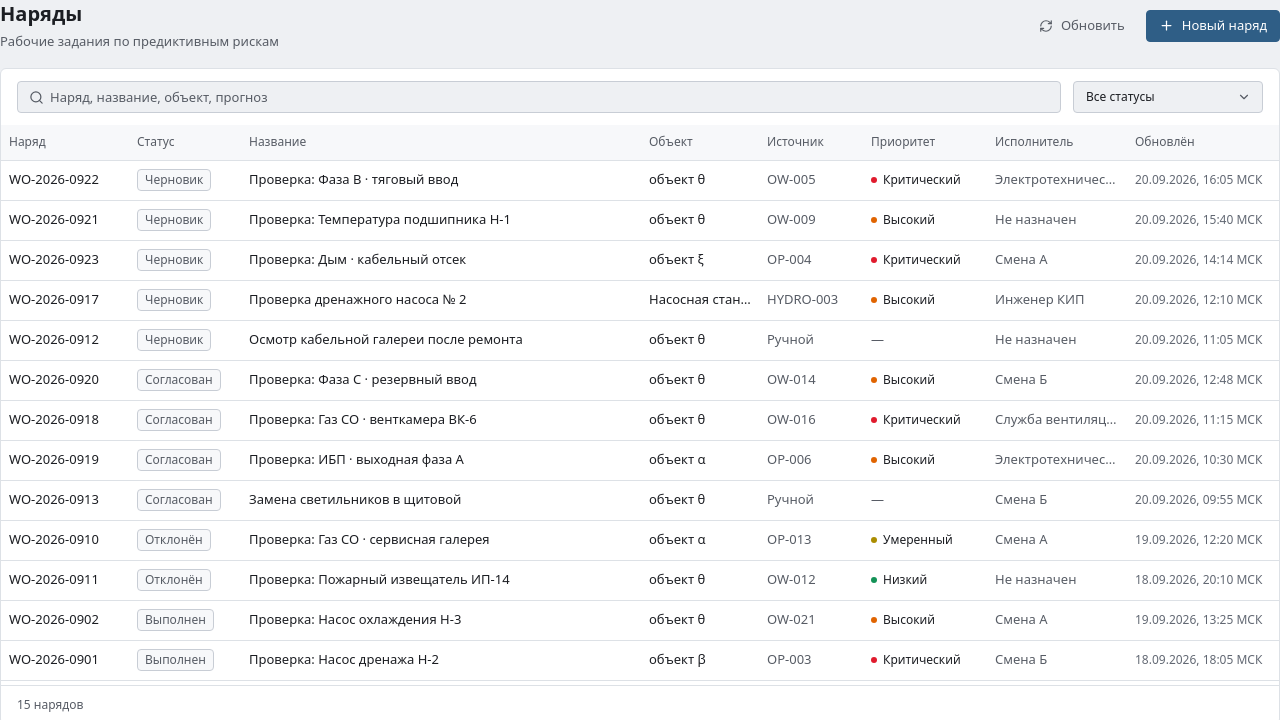
Test case: Tickets registry › searches by prediction id and assignee
Type "HYDRO-003" into the search field at [539, 96], box top-left (17, 80), bottom-right (1061, 112)
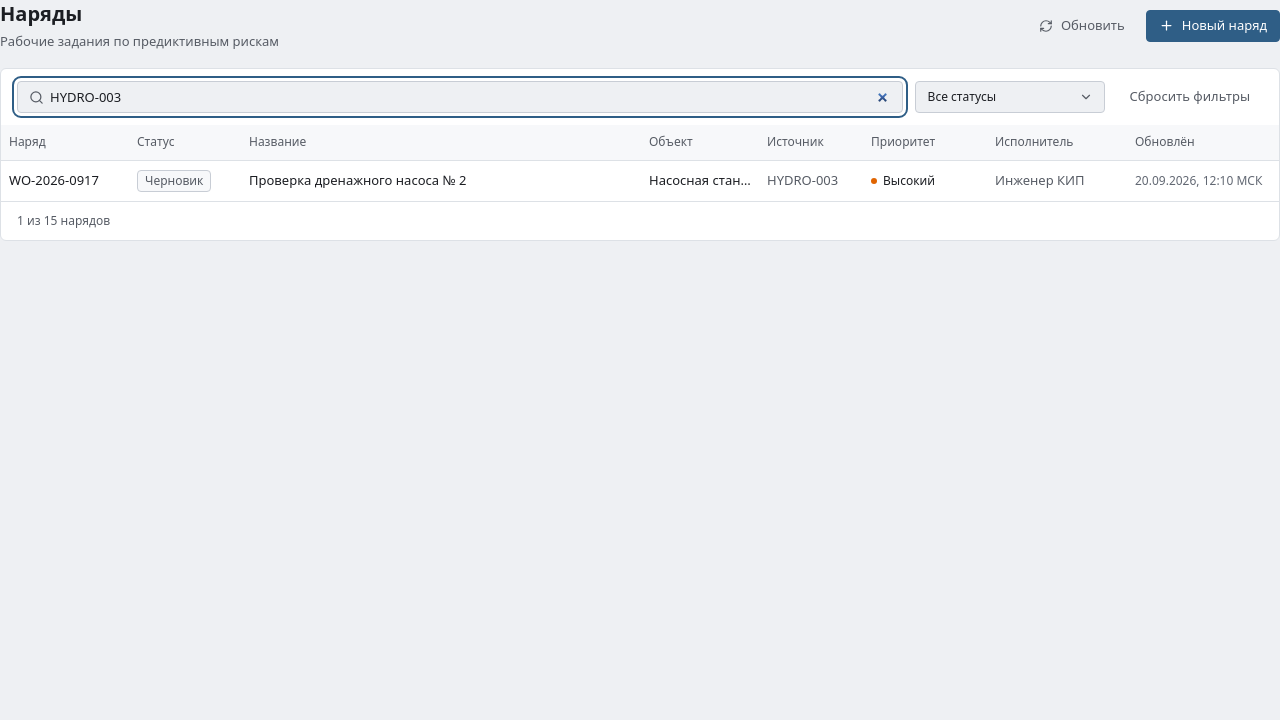
Expected: the text "1 из 15 нарядов" is shown, top-left (1, 200), bottom-right (1279, 240)
Clear the search field at [460, 96], box top-left (17, 80), bottom-right (903, 112)
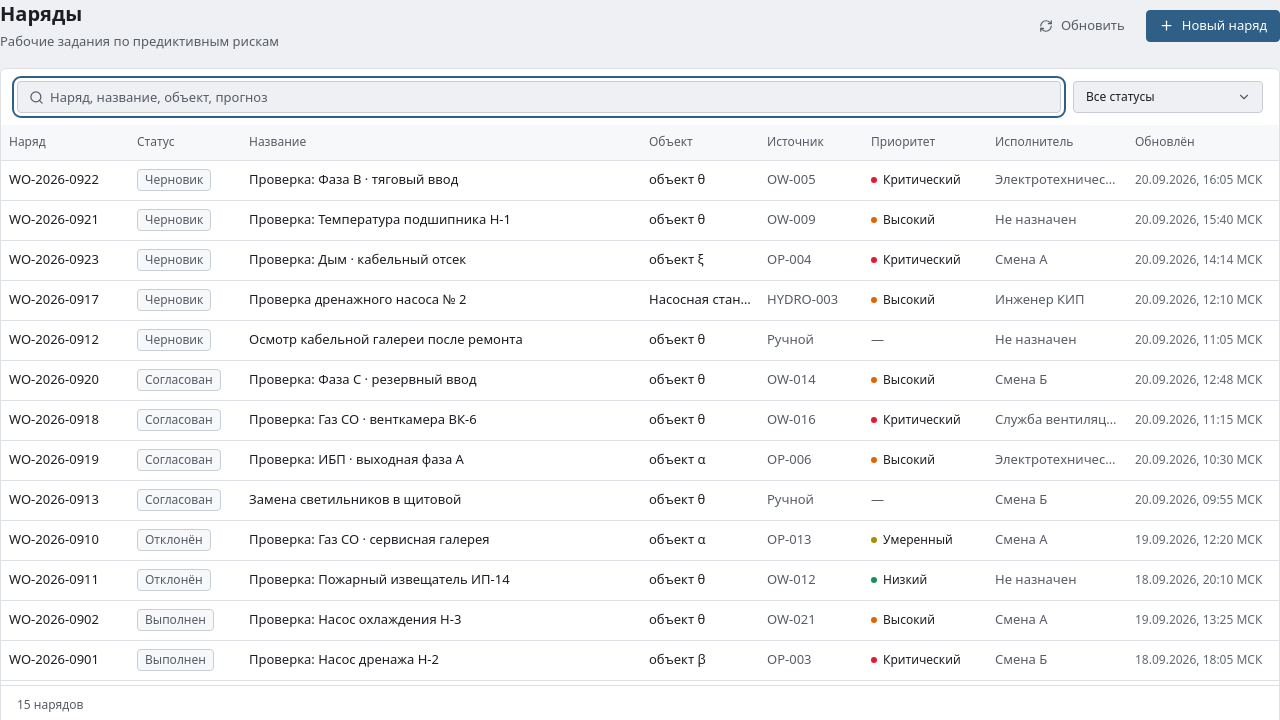
Type "Инженер КИП" into the search field at [539, 96], box top-left (17, 80), bottom-right (1061, 112)
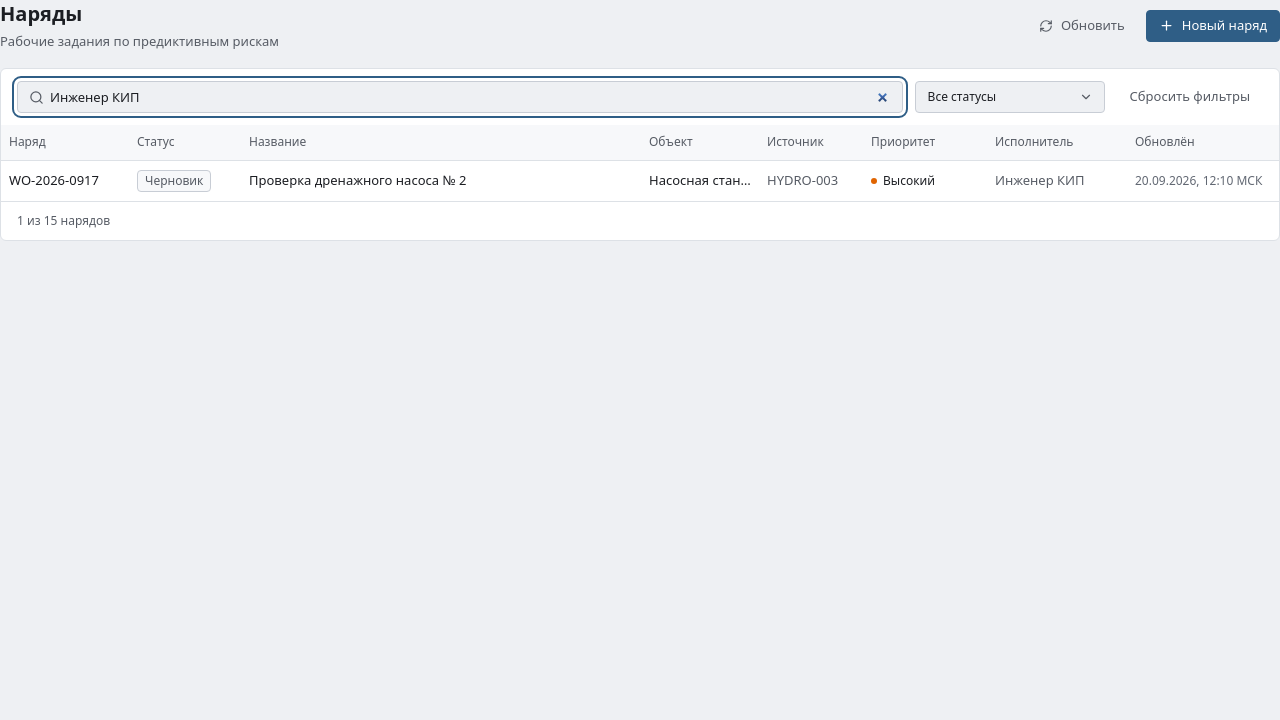
Expected: the text "1 из 15 нарядов" is shown, top-left (1, 200), bottom-right (1279, 240)
